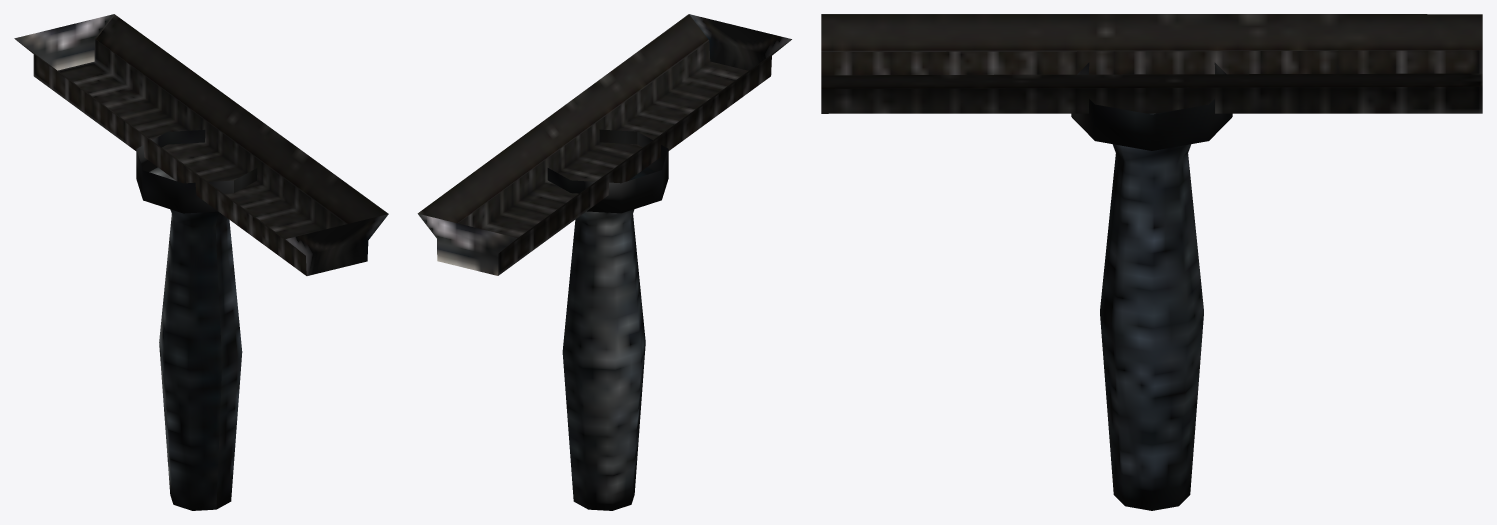
File: RIS_Foregrip.fbx
The picture shows the model from 3 angles, left to right: view 1: azimuth 30°, elevation 25°; view 2: azimuth 150°, elevation 25°; view 3: azimuth 270°, elevation 25°; orthographic projection. The views are drawn at different scales.
Visible parts, largest first — view 1: RIS_Underbarrel.006; view 2: RIS_Underbarrel.006; view 3: RIS_Underbarrel.006.
Boxes of the visible parts, x1,y1,x2,y2 form: RIS_Underbarrel.006: (14,14,388,510); RIS_Underbarrel.006: (417,14,791,510); RIS_Underbarrel.006: (821,14,1482,510).
Bounding box in the file's own units: 0.024 × 0.0984 × 0.074.
